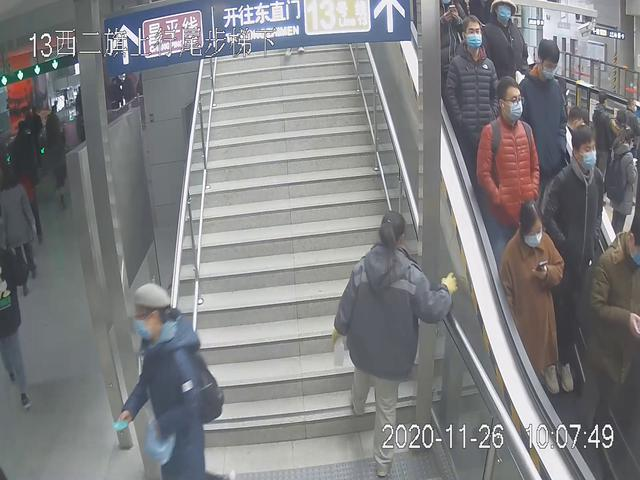person: (332, 208, 460, 480), (118, 281, 240, 480), (542, 123, 606, 386), (495, 197, 568, 426), (473, 78, 543, 270), (517, 36, 569, 242), (444, 14, 502, 197)
